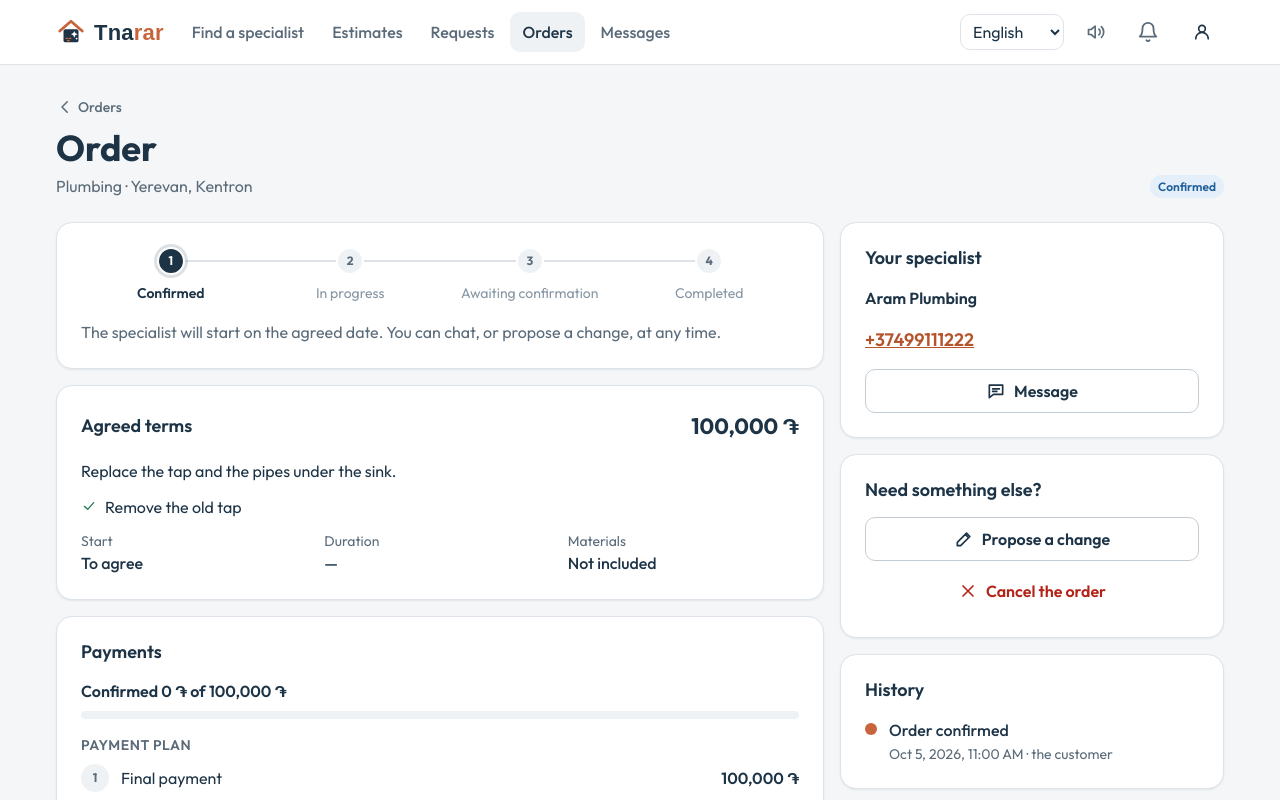
Order steps › shows a cancel error inside the dialog
Click the button "Cancel the order" at (1032, 591), box [865,569,1199,613]
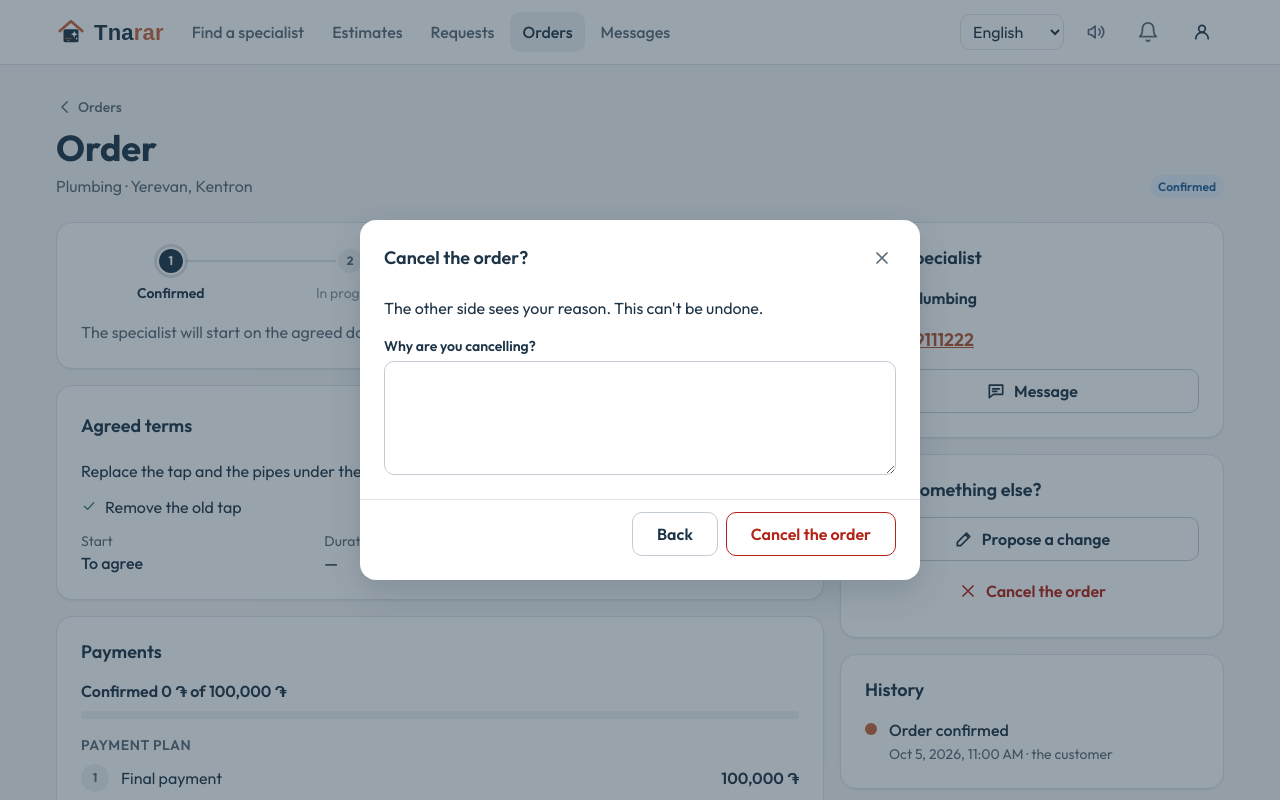
Expected: the text "The other side sees your reason. This can't be undone." is shown, [384,298,764,318]
Type "No longer needed" into the text box labelled "Why are you cancelling?" at (640, 418), box [384,361,896,475]
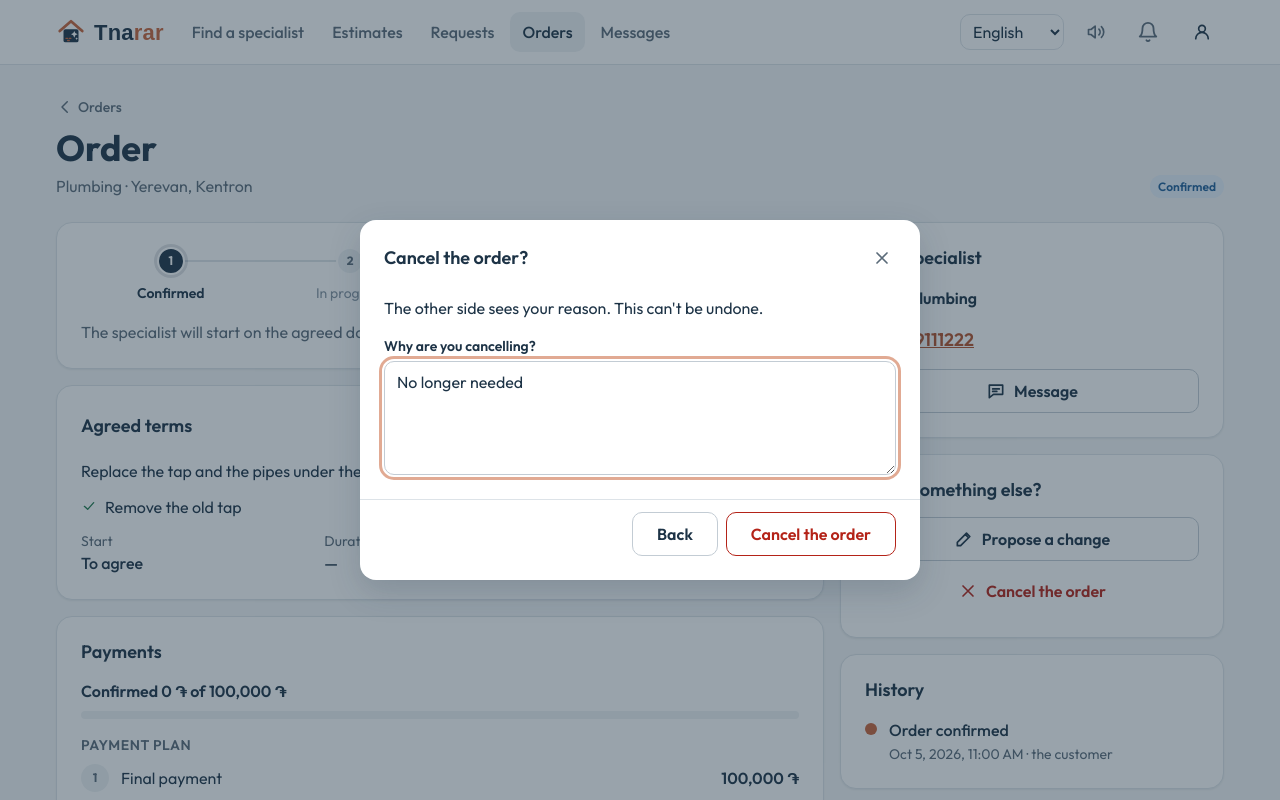
Click the button "Cancel the order" at (811, 534), box [726,512,896,556]
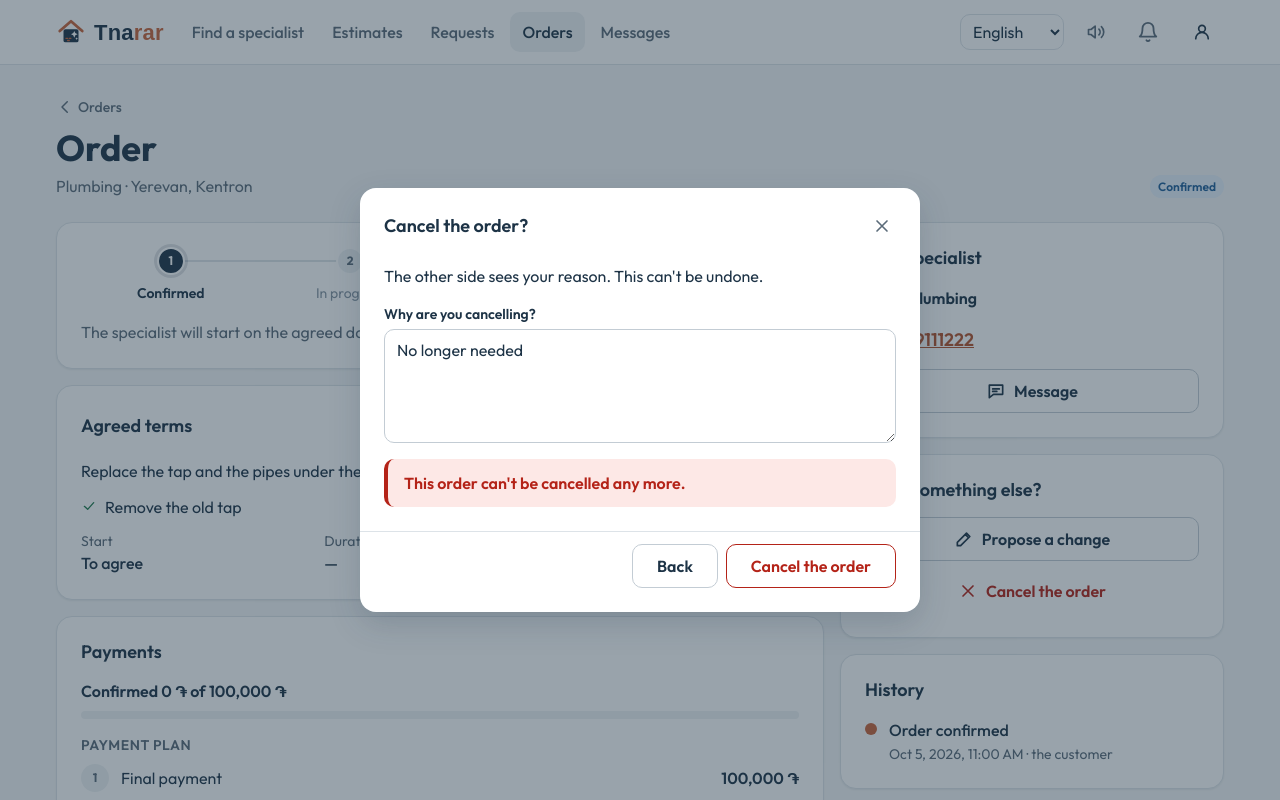
Expected: the text "This order can't be cancelled any more." is shown, [404,473,686,493]
Click the button "Back" at (675, 566), box [632,544,718,588]
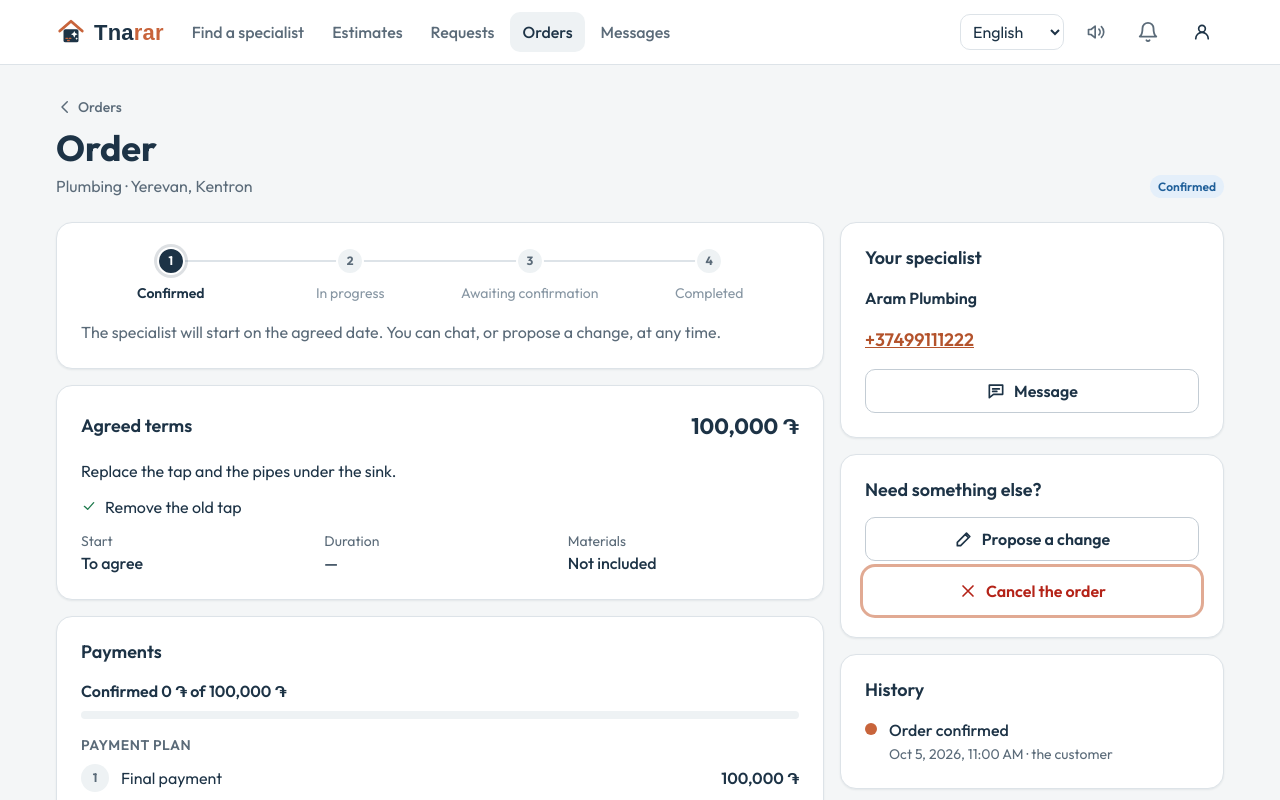
Expected: the dialog is gone
